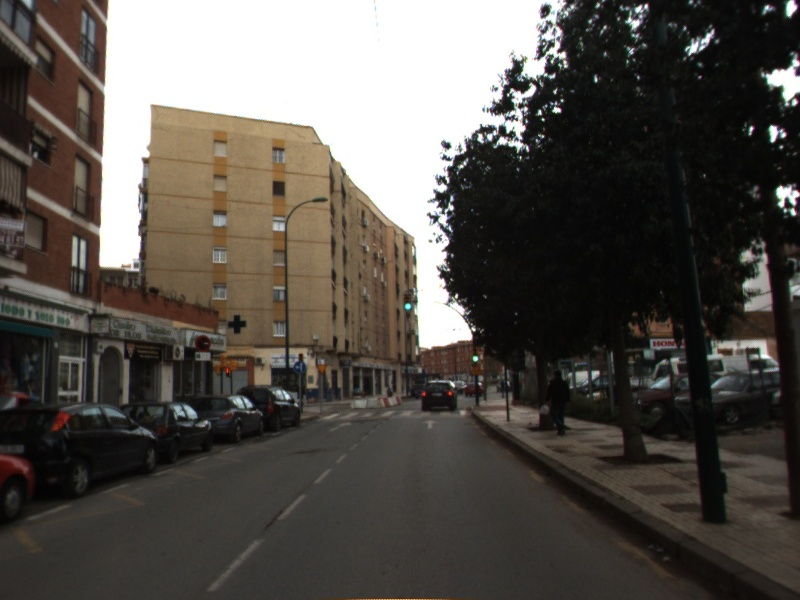STRAIGHT: (327, 420, 353, 433), (421, 418, 440, 430)
